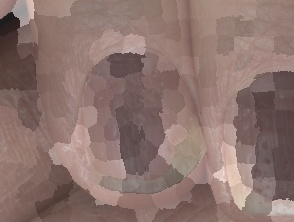Nail_psoriasis: (49, 54, 228, 222), (236, 97, 276, 217)
